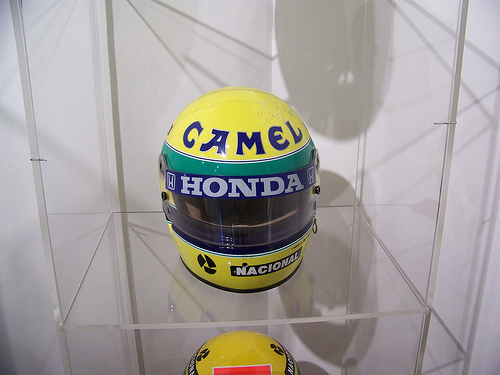helmet: (160, 89, 325, 285)
